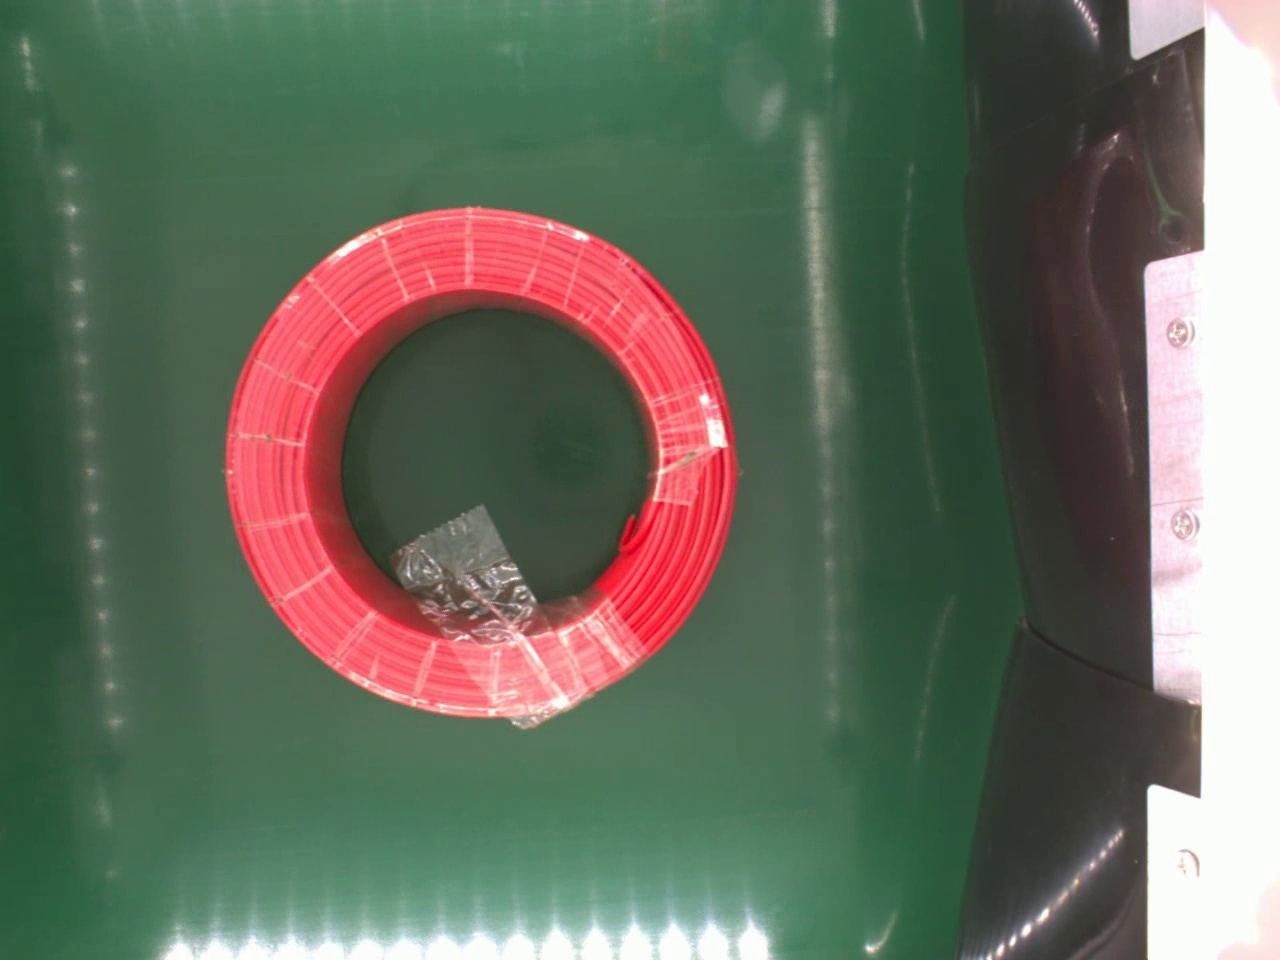red: (223, 201, 741, 723)
